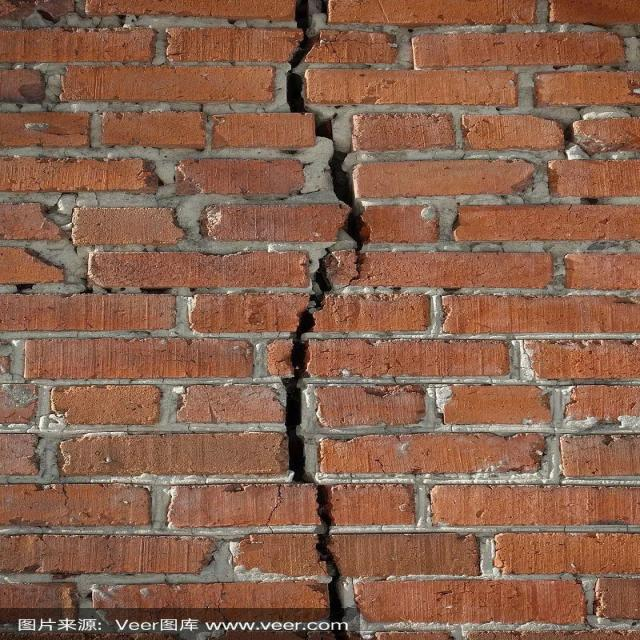brack_crack: (274, 1, 382, 611)
